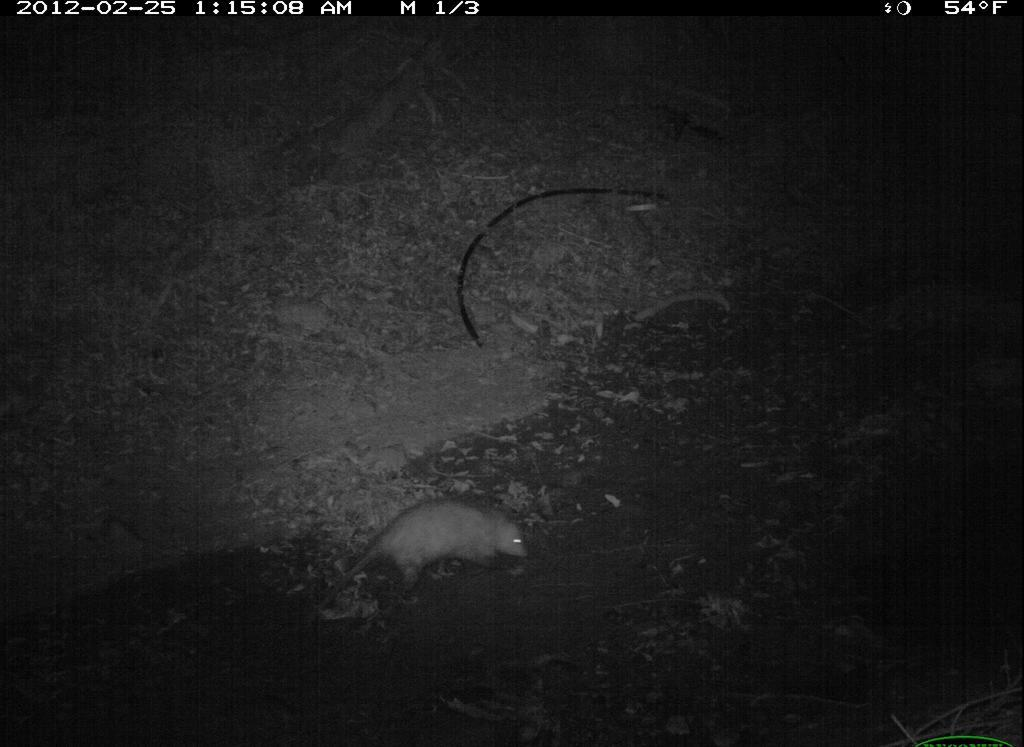opossum: (297, 487, 543, 626)
